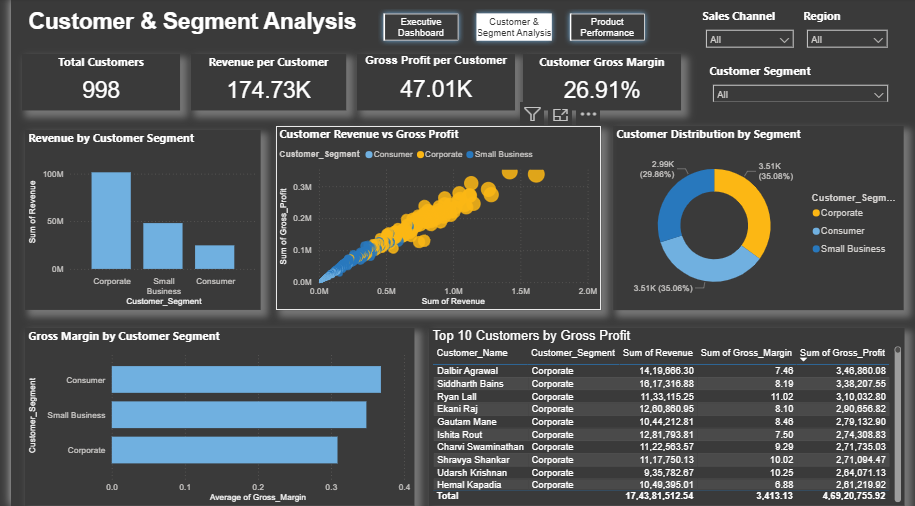

Layout of this report page (visuals, bound fields, positions):
{"tool":"powerbi","page":{"name":"Customer & Segment Analysis","canvas":[1280,720],"ordinal":1},"visuals":[{"type":"textbox","box":[20,10,480,55],"z":0},{"type":"card","title":"Total Customers","fields":{"Values":["Count(nexamart_analytics fact_customer_profitability.Customer_ID)"]},"box":[16,80,224,80],"z":1000},{"type":"card","title":"Revenue per Customer","fields":{"Values":["DimRegion.Revenue per Customer"]},"box":[255,80,220,80],"z":2000},{"type":"card","title":"Gross Profit per Customer","fields":{"Values":["DimRegion.Gross Profit per Customer"]},"box":[490,80,224,80],"z":3000},{"type":"card","title":"Customer Gross Margin","fields":{"Values":["DimRegion.Gross Margin %"]},"box":[725,80,224,80],"z":4000},{"type":"clusteredColumnChart","title":"Revenue by Customer Segment","fields":{"Category":["nexamart_analytics fact_customer_profitability.Customer_Segment"],"Y":["Sum(nexamart_analytics fact_customer_profitability.Revenue)"]},"box":[20.2,187.2,334.1,254.9],"z":5000},{"type":"clusteredBarChart","title":"Gross Margin by Customer Segment","fields":{"Category":["nexamart_analytics fact_customer_profitability.Customer_Segment"],"Y":["Avg(nexamart_analytics fact_customer_profitability.Gross_Margin)"]},"box":[20.2,468,551.5,252],"z":6000},{"type":"donutChart","title":"Customer Distribution by Segment","fields":{"Category":["nexamart_analytics fact_customer_profitability.Customer_Segment"],"Y":["CountNonNull(nexamart_analytics fact_customer_profitability.Customer_ID)"]},"box":[853.9,181.4,411.8,260.6],"z":7000},{"type":"tableEx","title":"Top 10 Customers by Gross Profit","fields":{"Values":["nexamart_analytics fact_customer_profitability.Customer_Name","nexamart_analytics fact_customer_profitability.Customer_Segment","Sum(nexamart_analytics fact_customer_profitability.Revenue)","Sum(nexamart_analytics fact_customer_profitability.Gross_Margin)","Sum(nexamart_analytics fact_customer_profitability.Gross_Profit)"]},"box":[591.8,468,673.9,252],"z":8000},{"type":"scatterChart","title":"Customer Revenue vs Gross Profit","fields":{"X":["Sum(nexamart_analytics fact_customer_profitability.Revenue)"],"Y":["Sum(nexamart_analytics fact_customer_profitability.Gross_Profit)"],"Series":["nexamart_analytics fact_customer_profitability.Customer_Segment"],"Size":["Sum(nexamart_analytics fact_customer_profitability.Revenue)"],"Category":["nexamart_analytics fact_customer_profitability.Customer_Name"]},"box":[375.8,181.4,460.8,260.6],"z":9000},{"type":"slicer","title":"Customer Segment","fields":{"Values":["nexamart_analytics fact_customer_profitability.Customer_Segment"]},"box":[985,92.2,267.8,54.7],"z":10000},{"type":"slicer","title":"Region","fields":{"Values":["nexamart_analytics fact_customer_profitability.Region"]},"box":[1118.9,14.4,133.9,66.2],"z":11000},{"type":"slicer","title":"Sales Channel","fields":{"Values":["nexamart_analytics fact_customer_profitability.Sales_Channel"]},"box":[974.9,14.4,144,66.2],"z":12000},{"type":"pageNavigator","box":[519.8,14.4,387.4,54.7],"z":13000}]}

Visuals, with their boxes in screenshot pixels (x1, y1, x2, y2), scaled from the page's 1280x720 canvas onto the 915x506 screenshot:
textbox: l=14, t=7, r=357, b=46
"Total Customers" card: l=11, t=56, r=172, b=112
"Revenue per Customer" card: l=182, t=56, r=340, b=112
"Gross Profit per Customer" card: l=350, t=56, r=510, b=112
"Customer Gross Margin" card: l=518, t=56, r=678, b=112
"Revenue by Customer Segment" clusteredColumnChart: l=14, t=132, r=253, b=311
"Gross Margin by Customer Segment" clusteredBarChart: l=14, t=329, r=409, b=505
"Customer Distribution by Segment" donutChart: l=610, t=127, r=905, b=311
"Top 10 Customers by Gross Profit" tableEx: l=423, t=329, r=905, b=505
"Customer Revenue vs Gross Profit" scatterChart: l=269, t=127, r=598, b=311
"Customer Segment" slicer: l=704, t=65, r=896, b=103
"Region" slicer: l=800, t=10, r=896, b=57
"Sales Channel" slicer: l=697, t=10, r=800, b=57
pageNavigator: l=372, t=10, r=649, b=49
